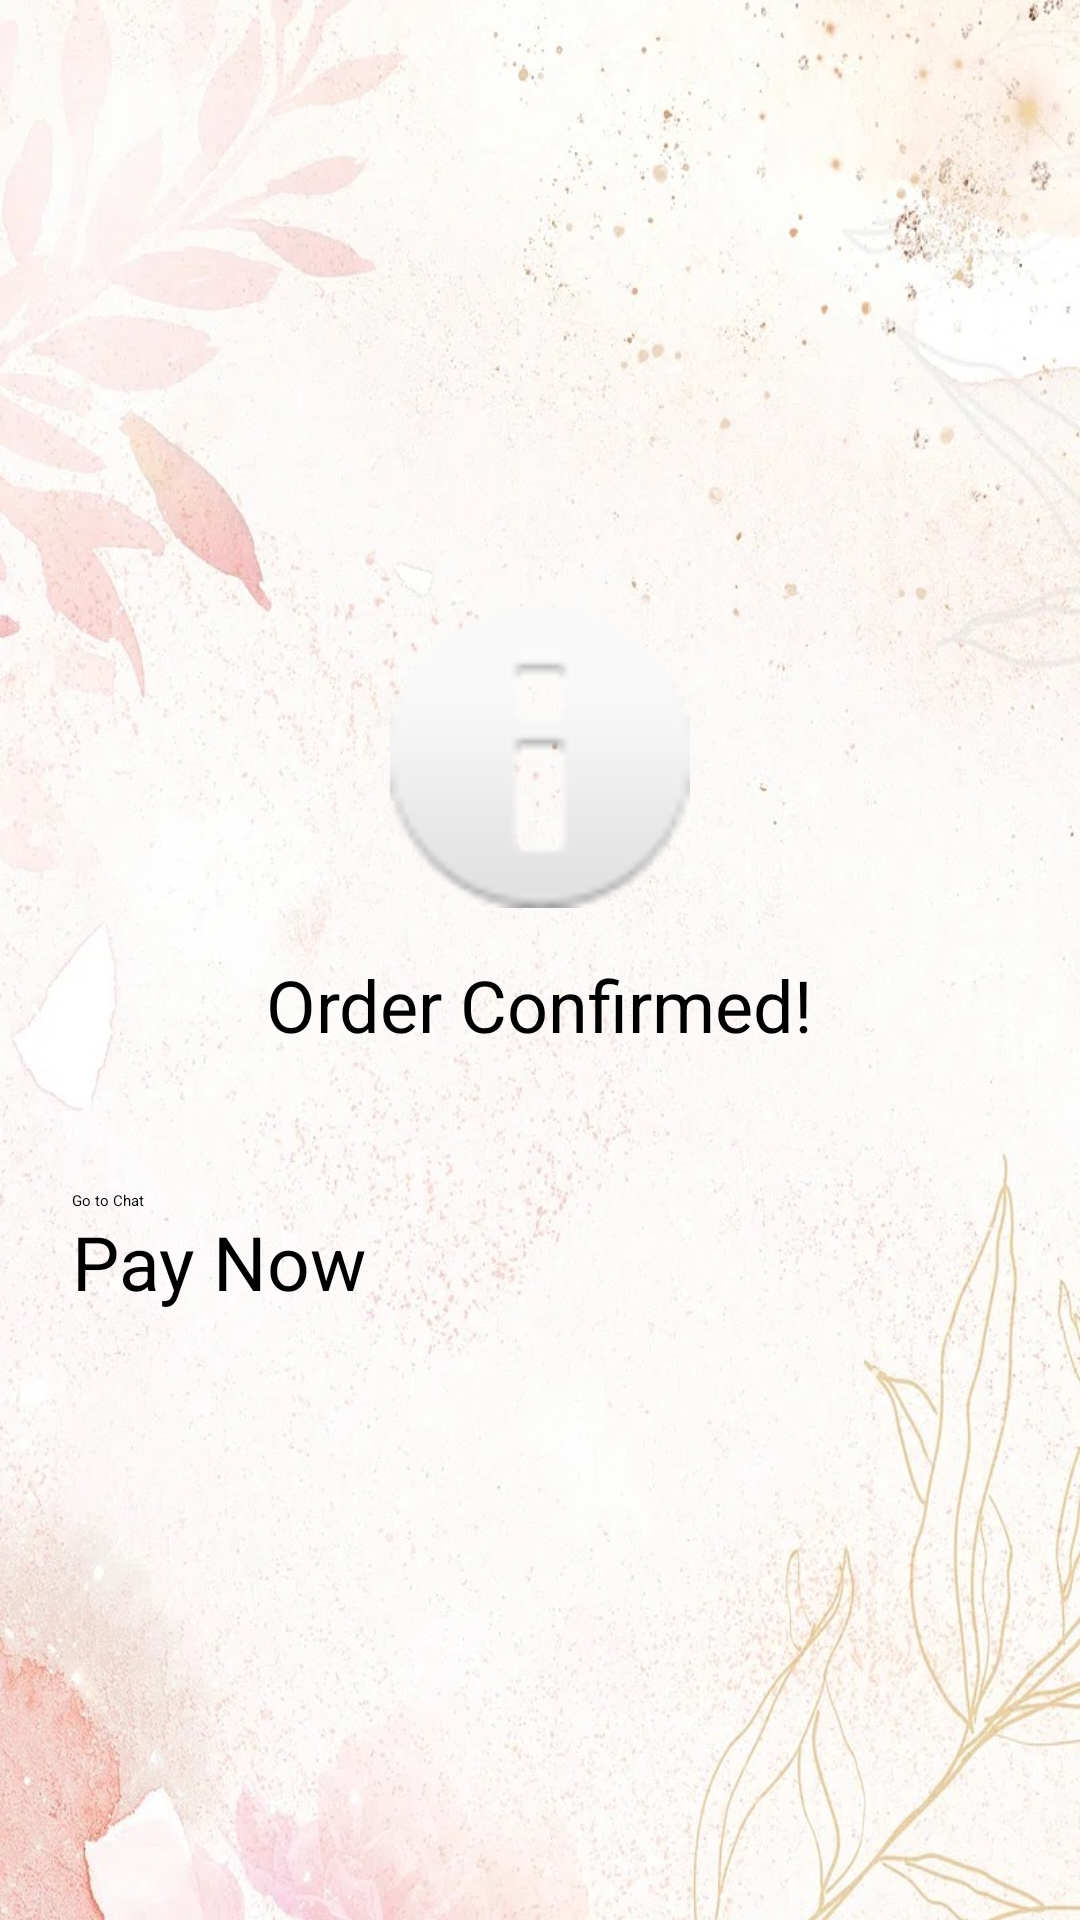

Where to tap for icons on this 1080x1920 app screen, as [x,y]:
info: [540,760]
